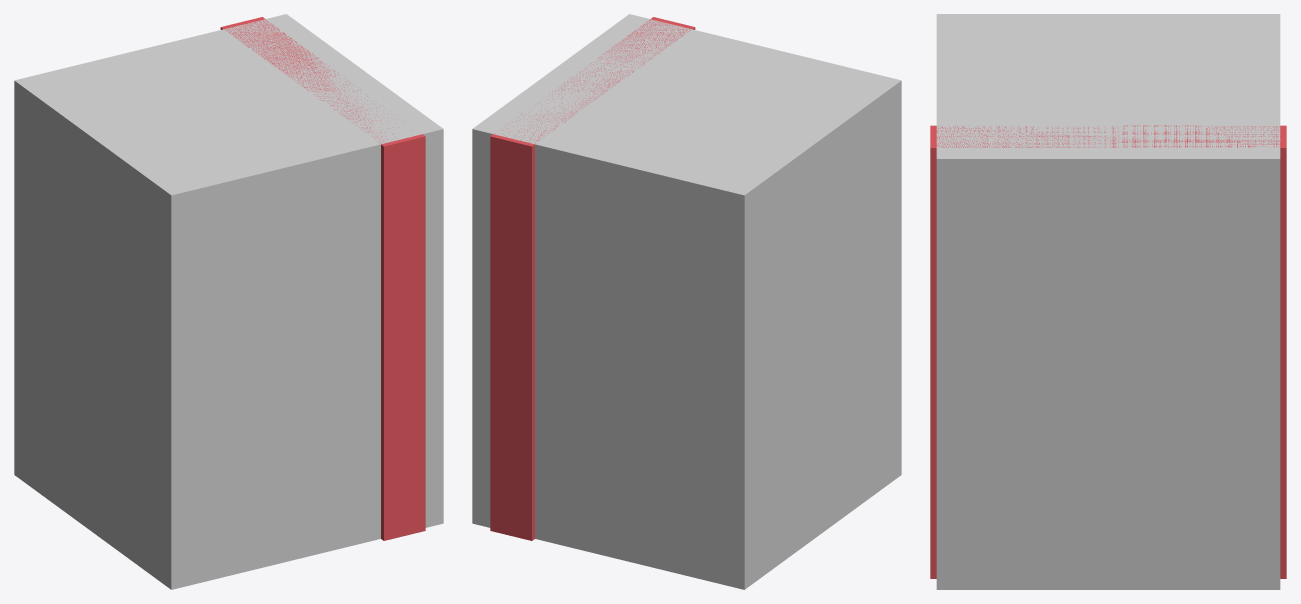
Rendered from piloto_coxa.glb.
3 views of the same model, side by side, from view 1: azimuth 30°, elevation 25°; view 2: azimuth 150°, elevation 25°; view 3: azimuth 270°, elevation 25° (orthographic). The views are drawn at different scales.
Parts seen in each view (by area): view 1: piloto_coxa; view 2: piloto_coxa; view 3: piloto_coxa.
Part boxes in pixels (x1,y1,x2,y2): piloto_coxa: [14, 14, 443, 589]; piloto_coxa: [472, 14, 901, 589]; piloto_coxa: [930, 14, 1286, 589].
Bounding box in the file's own units: 0.26 × 0.36 × 0.27.
